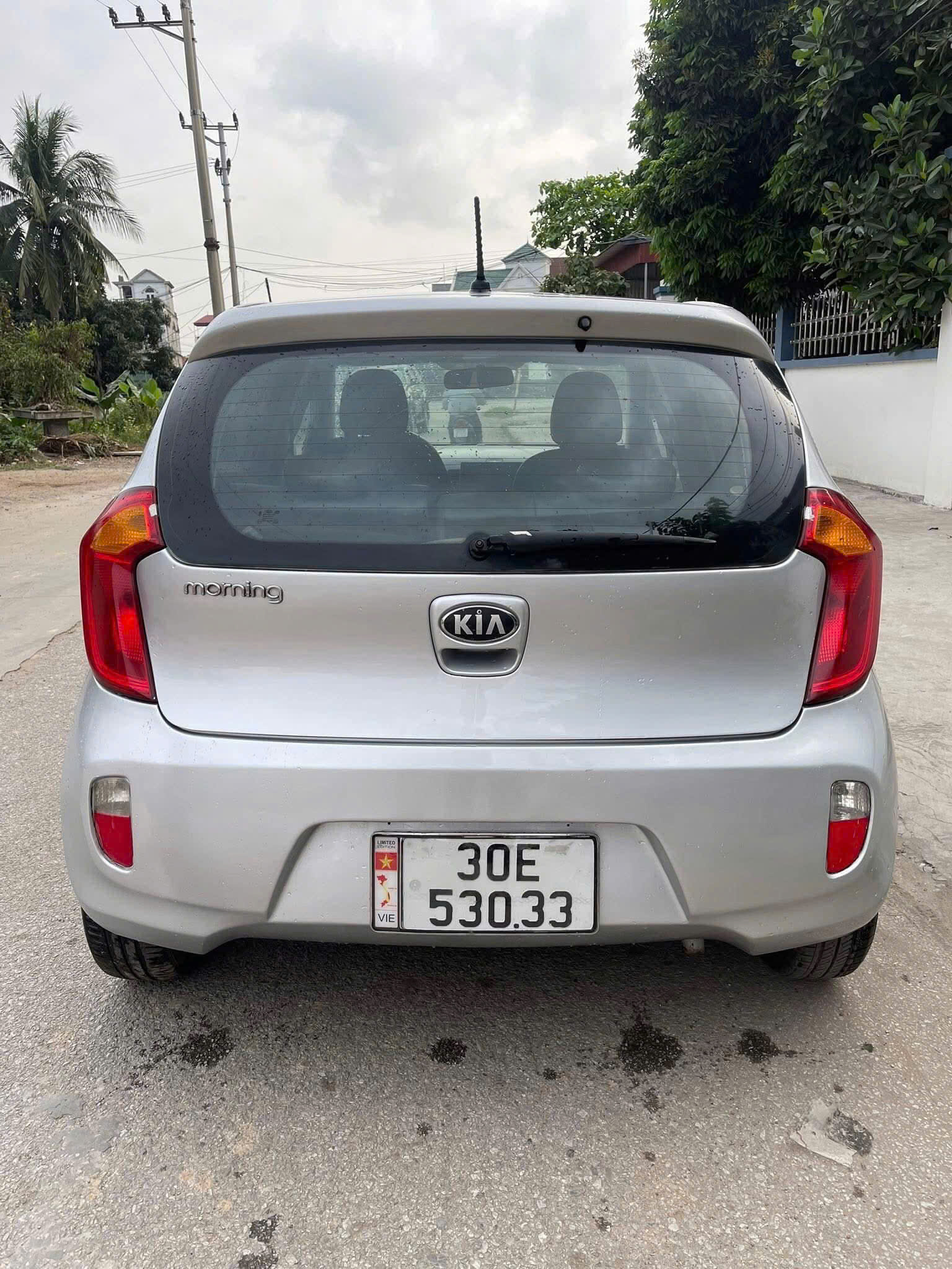Bien-so: (404, 837, 591, 927)
